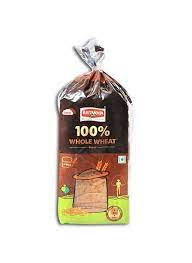bread: (53, 43, 134, 228)
